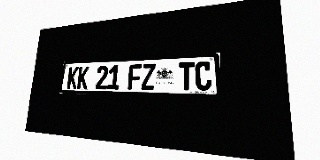1: (107, 65, 120, 89)
2: (95, 65, 108, 89)
C: (195, 61, 212, 90)
F: (128, 64, 142, 90)
K: (77, 66, 89, 89), (67, 67, 79, 89)
T: (179, 62, 194, 90)
Z: (141, 63, 155, 90)
